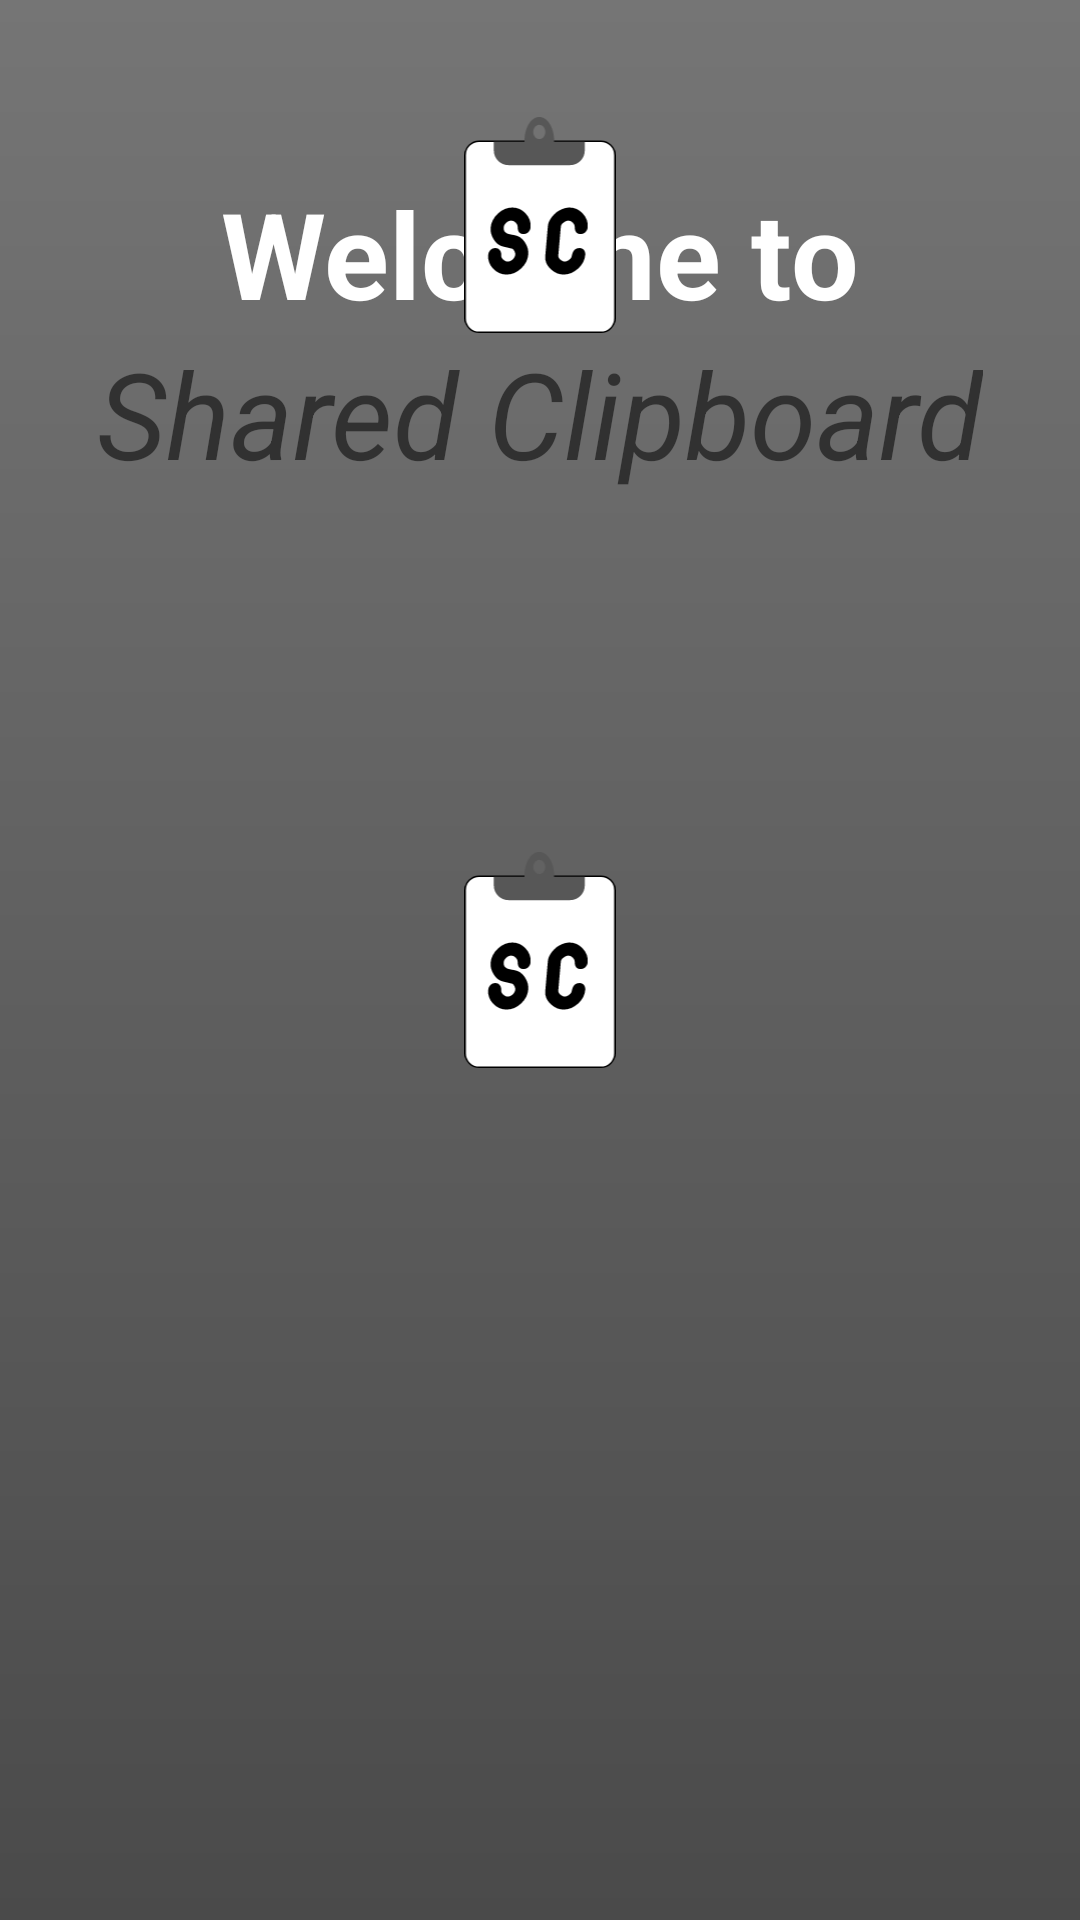

Screen size 1080px×1920px. Icon name, then its box in pixels as (x1, y1, x2, y2):
Center Icon: (464, 875, 616, 1068)
